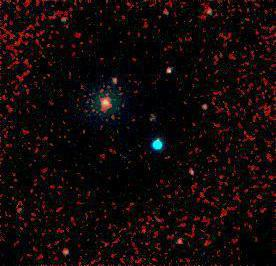star: (91, 85, 121, 115)
